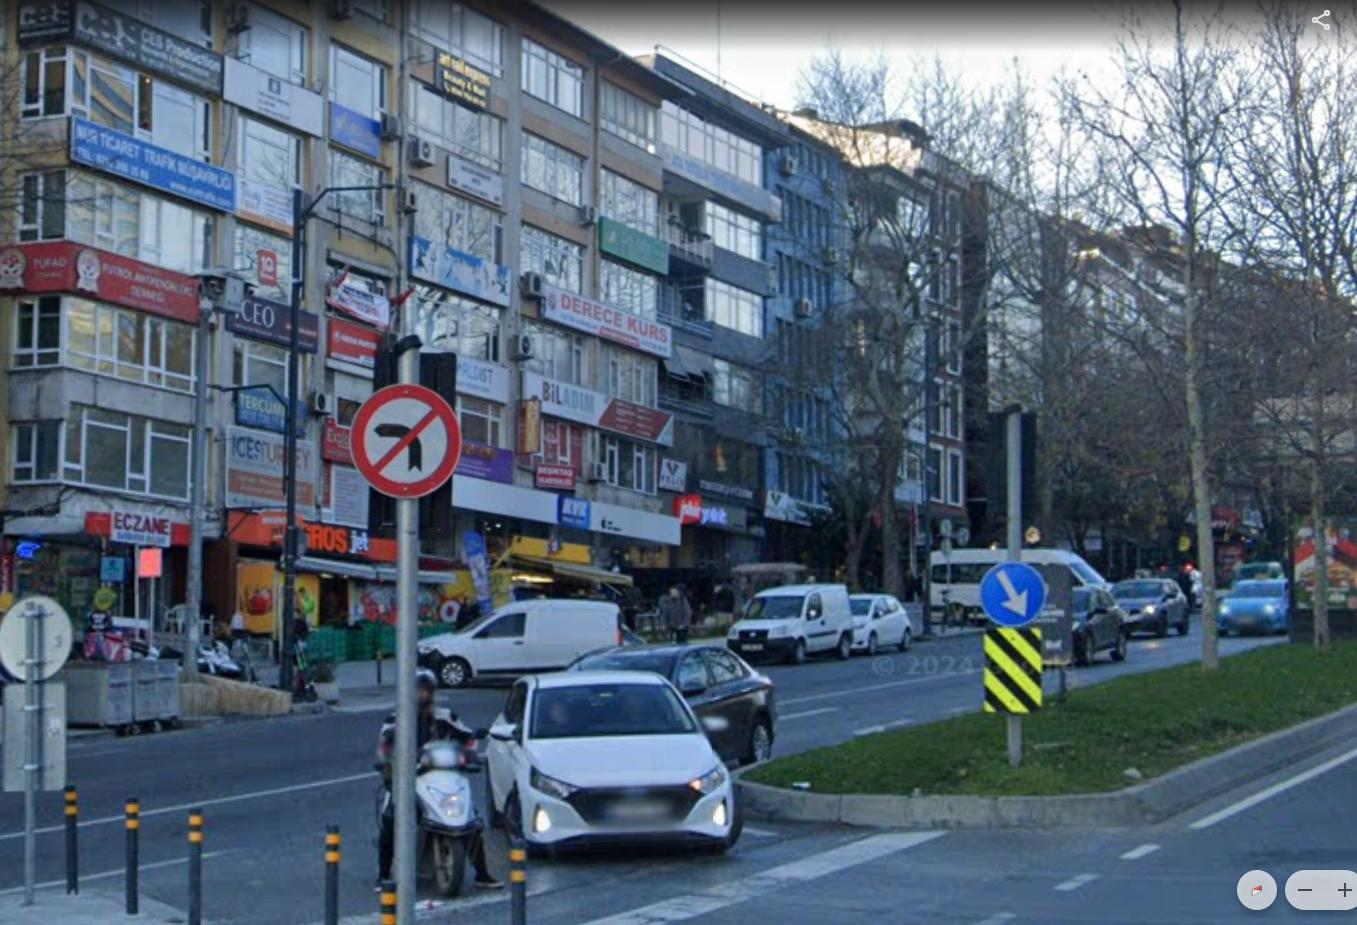leftturnsareforbidden: (345, 376, 472, 508)
